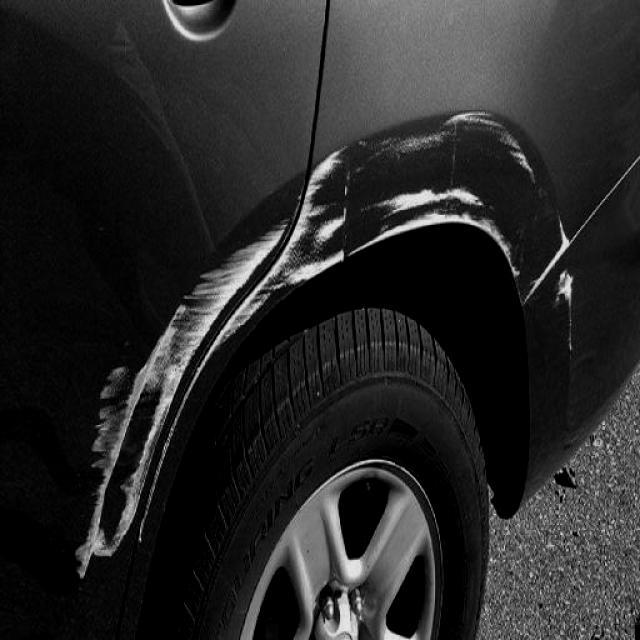car damage: (76, 110, 568, 579), (554, 267, 574, 353)
